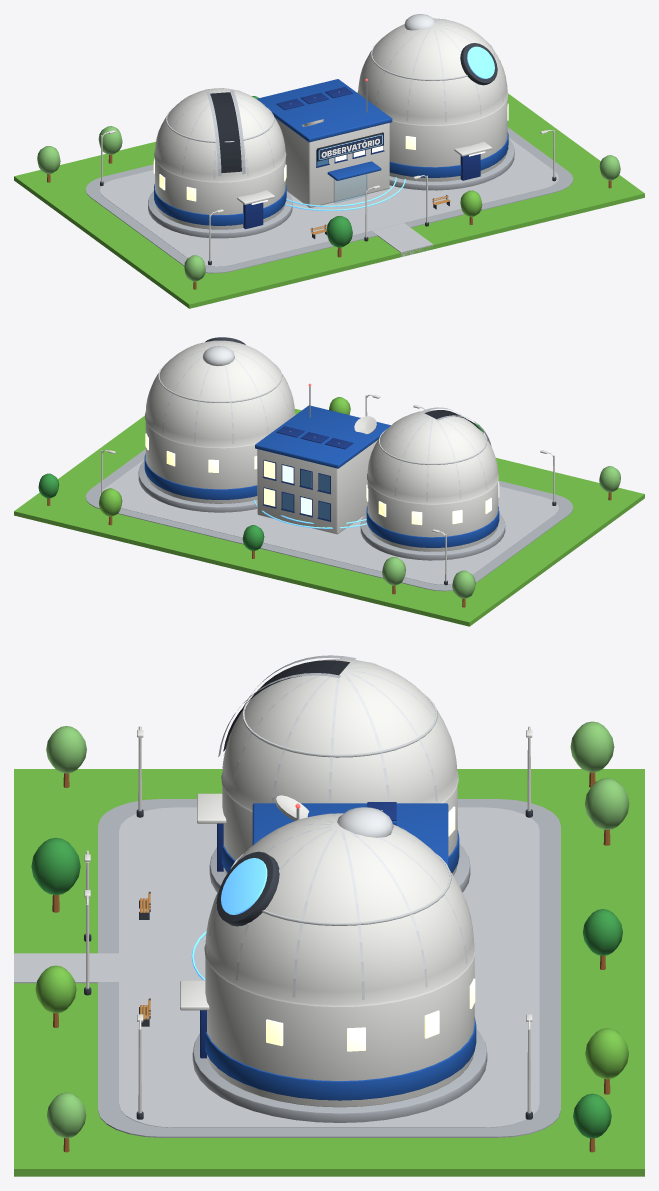
Rendered from observatorio.glb.
The picture shows the model from 3 angles, top to bottom: view 1: azimuth 30°, elevation 25°; view 2: azimuth 150°, elevation 25°; view 3: azimuth 270°, elevation 25°; orthographic projection. The views are drawn at different scales.
Parts seen in each view (by area): view 1: observatorio, domo_2_domo, domo_1_domo; view 2: observatorio, domo_2_domo, domo_1_domo; view 3: observatorio, domo_2_domo, domo_1_domo.
Part boxes in pixels (x1,y1,x2,y2): observatorio: (14,78,644,308); domo_2_domo: (358,14,508,125); domo_1_domo: (154,88,286,182); observatorio: (14,383,644,626); domo_2_domo: (145,337,295,448); domo_1_domo: (367,407,498,504); observatorio: (14,721,644,1176); domo_2_domo: (204,807,475,1007); domo_1_domo: (218,655,458,812).
Bounding box in the file's own units: 45 × 13.32 × 30.
Materials: 9 (2 with a texture image).
